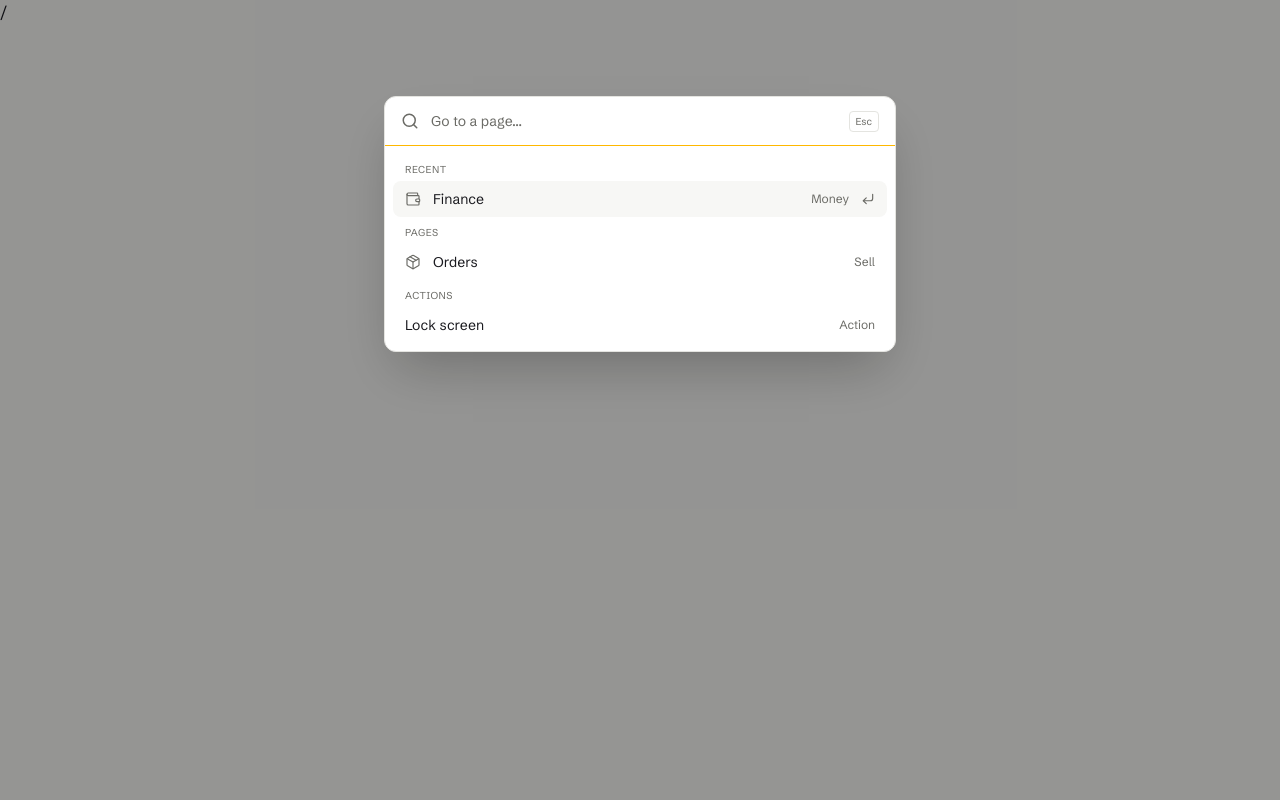
Test case: CommandPalette › filters by name or hidden keyword and opens the first match with Enter
Type "courier" into the dropdown at (634, 121), box [431,97,837,145]
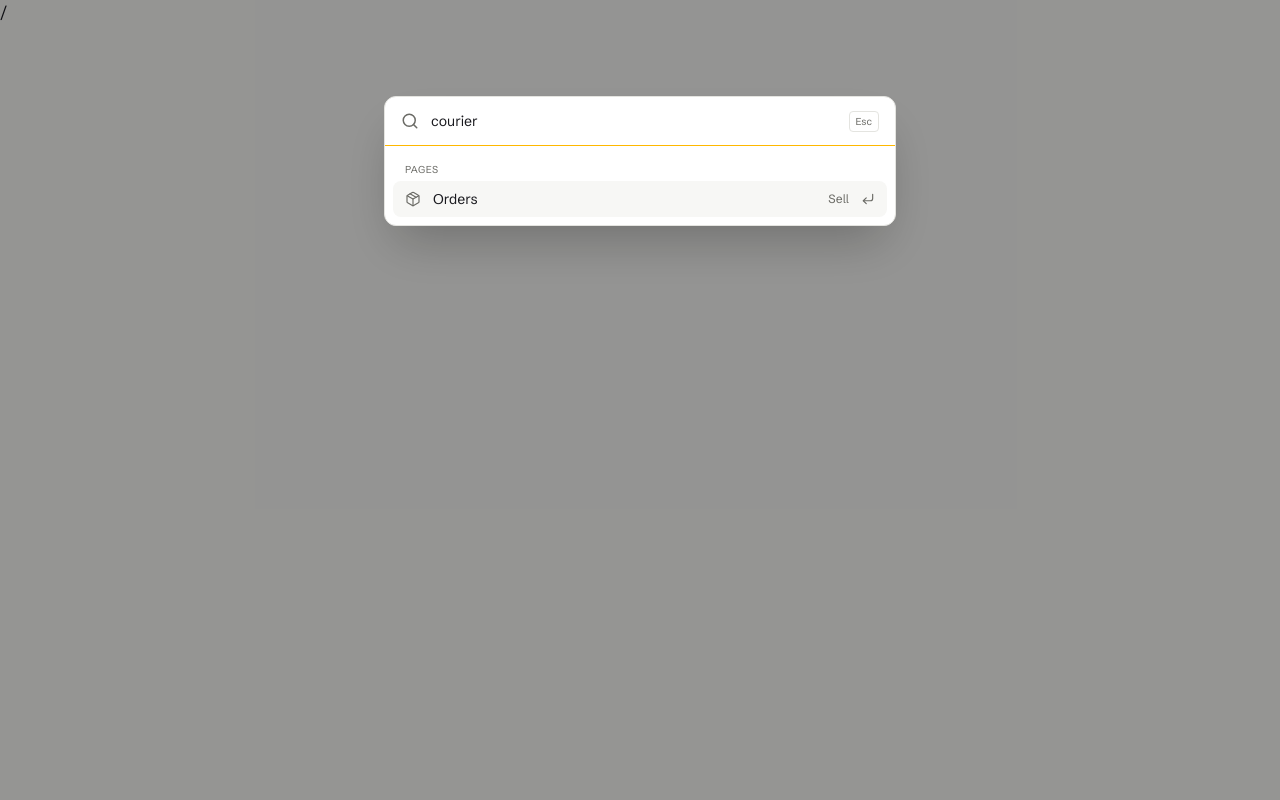
expect the number of options is 1: met, box [393,181,887,217]
Press Enter
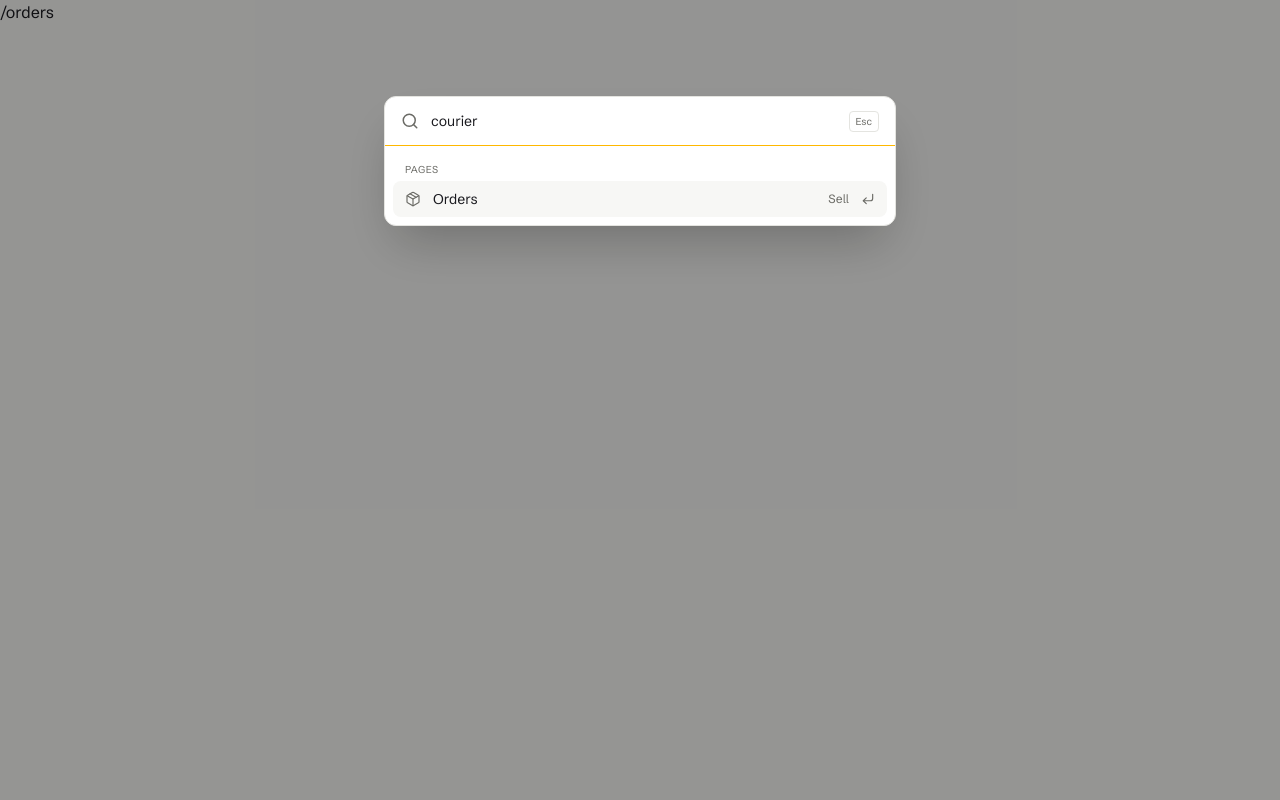
expect the text with test id "where" reads "/orders": met, box [0,2,54,22]
